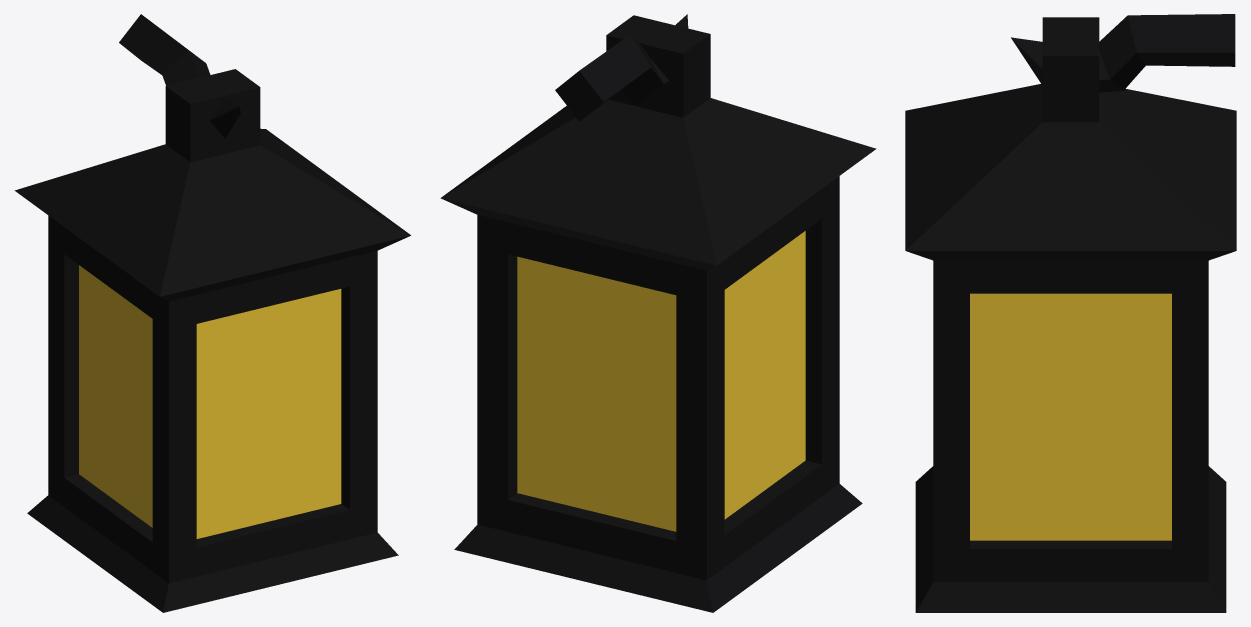
The model's file is Furniture_Lantern.fbx.
3 renders of one model, left to right at view 1: azimuth 30°, elevation 25°; view 2: azimuth 150°, elevation 25°; view 3: azimuth 270°, elevation 25°, orthographic. The views are drawn at different scales.
Visible parts, largest first — view 1: Lantern; view 2: Lantern; view 3: Lantern.
Part boxes in pixels (box(x1,y1,x2,y2)): Lantern: box(14, 14, 410, 612); Lantern: box(440, 14, 876, 612); Lantern: box(905, 14, 1236, 612).
Size of the model in its own units: 68.82 by 122 by 68.82.
